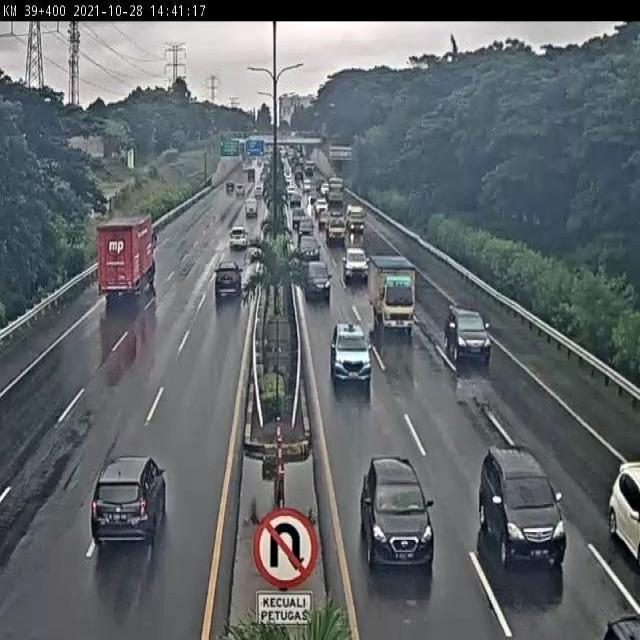car: (479, 447, 567, 564), (360, 457, 434, 572), (89, 455, 167, 545), (444, 307, 492, 365), (330, 322, 372, 386), (214, 260, 242, 303), (303, 260, 330, 301), (342, 245, 369, 284), (298, 235, 320, 261), (229, 226, 249, 250)
mid truck: (96, 215, 155, 297)
truck-m-: (368, 255, 415, 333)
